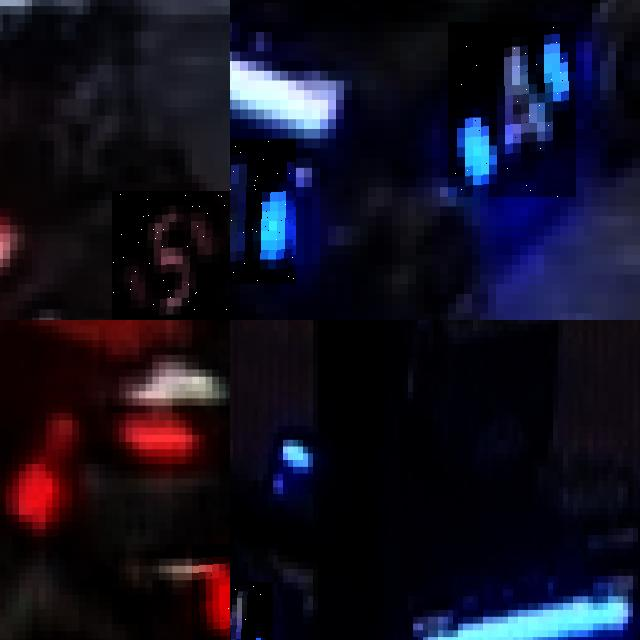B4: (448, 22, 576, 197), (230, 138, 296, 284), (230, 582, 273, 640)
R5: (112, 191, 230, 320)
